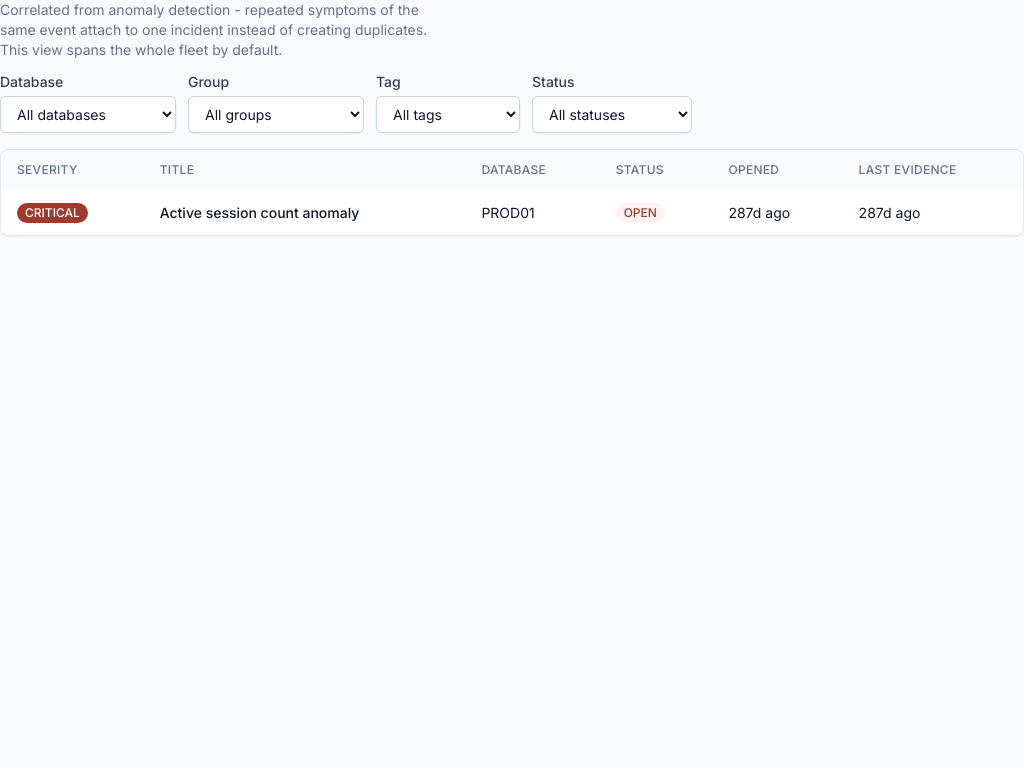
Test case: IncidentsPage › shows email notification delivery status in the drawer
This screenshot has width=1024, height=768.
Click the text "Active session count anomaly": (260, 212) [160,204,359,220]
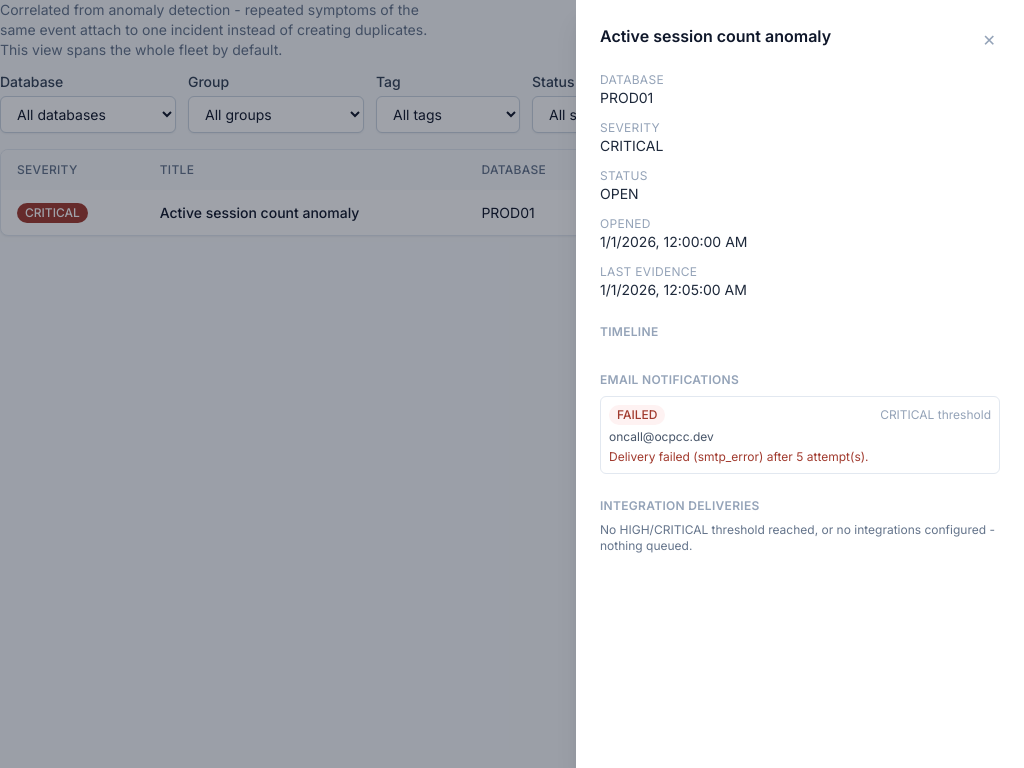
Expected: the text "FAILED" is shown, [609,405,666,425]
Expected: the text "oncall@ocpcc.dev" is shown, [609,429,714,444]
Expected: the text "Delivery failed (smtp_error) after 5 attempt(s)." is shown, [609,449,869,464]
